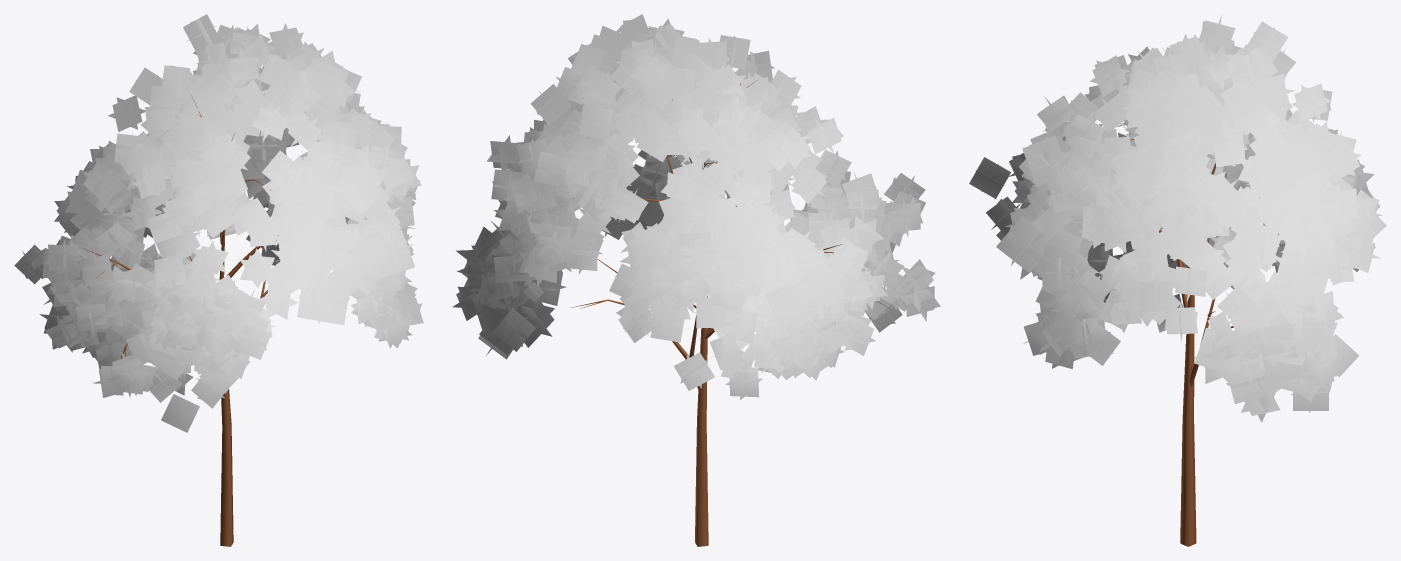
The model's file is SM_Tree Test with shadow.fbx.
3 renders of one model, left to right at view 1: azimuth 30°, elevation 25°; view 2: azimuth 150°, elevation 25°; view 3: azimuth 270°, elevation 25°, orthographic. The views are drawn at different scales.
Parts seen in each view (by area): view 1: Leaves-a.004, tree trunk.002; view 2: Leaves-a.004, tree trunk.002; view 3: Leaves-a.004, tree trunk.002.
Part boxes in pixels (bbox=[...]): Leaves-a.004: bbox=[14, 14, 423, 432]; tree trunk.002: bbox=[81, 95, 270, 546]; Leaves-a.004: bbox=[452, 14, 940, 399]; tree trunk.002: bbox=[570, 69, 892, 546]; Leaves-a.004: bbox=[969, 14, 1386, 422]; tree trunk.002: bbox=[1121, 50, 1280, 546].
Bounding box in the file's own units: 5.63 × 5.16 × 7.17.
